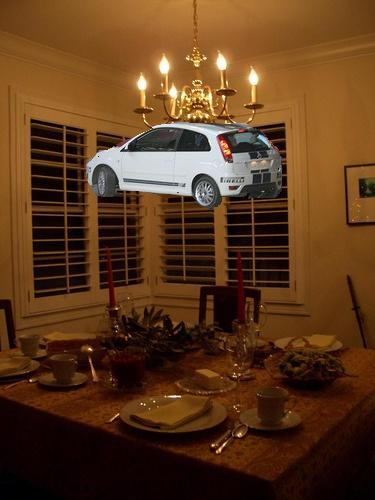tampered: (87, 123, 282, 210)
